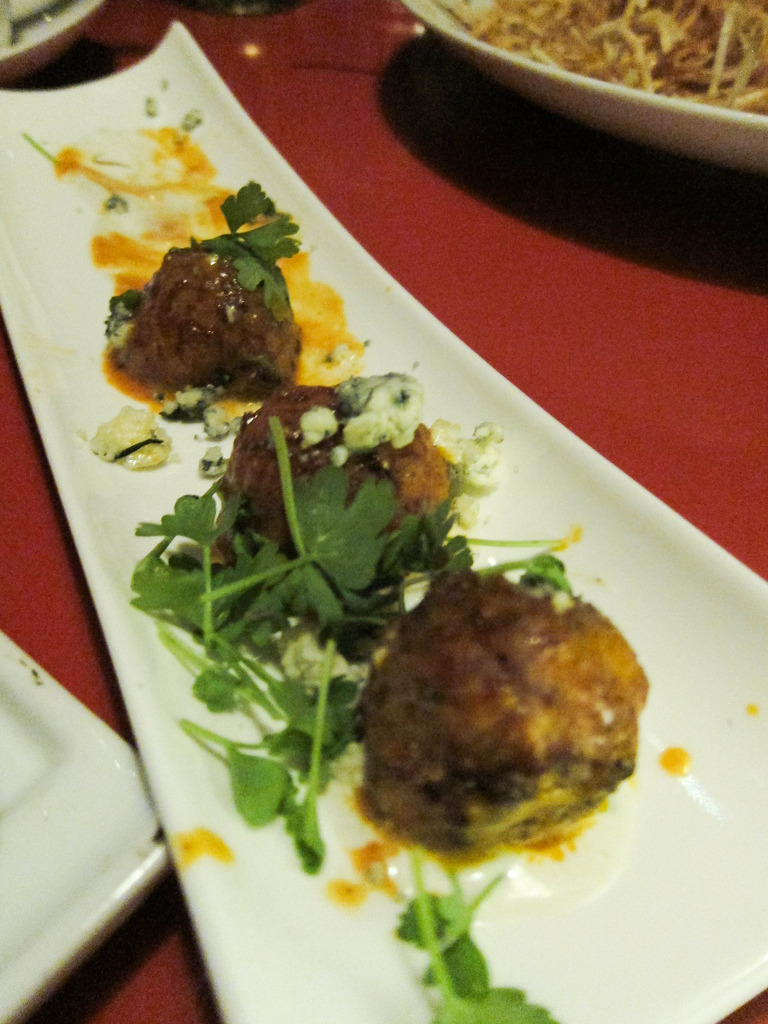meatballs: (360, 582, 645, 842), (243, 395, 435, 584), (135, 250, 300, 395)
